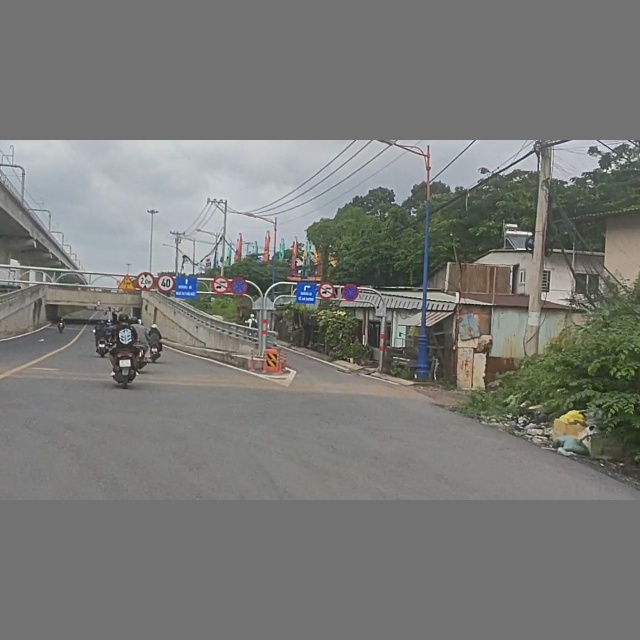P.107: (211, 276, 230, 294), (319, 282, 335, 300)
P.117*: (137, 271, 155, 291)
P.127*40: (157, 275, 175, 293)
P.130: (343, 284, 359, 302), (231, 278, 247, 295)
W.239b*: (117, 274, 135, 291)
